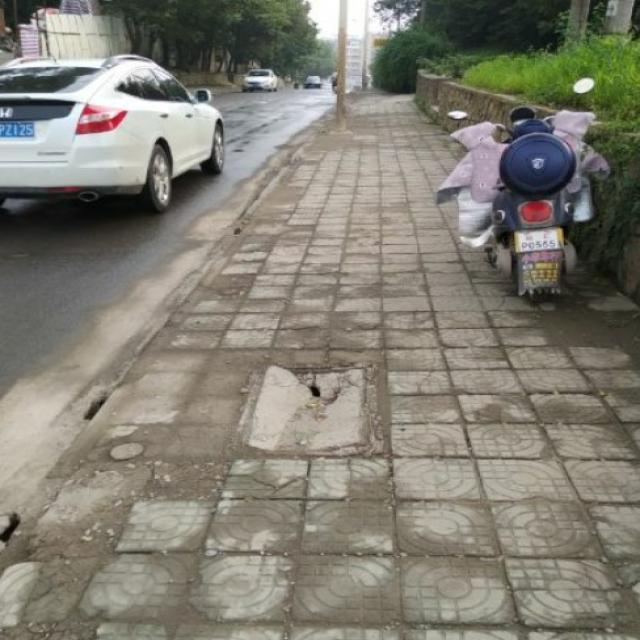Broken: (236, 345, 378, 489)
